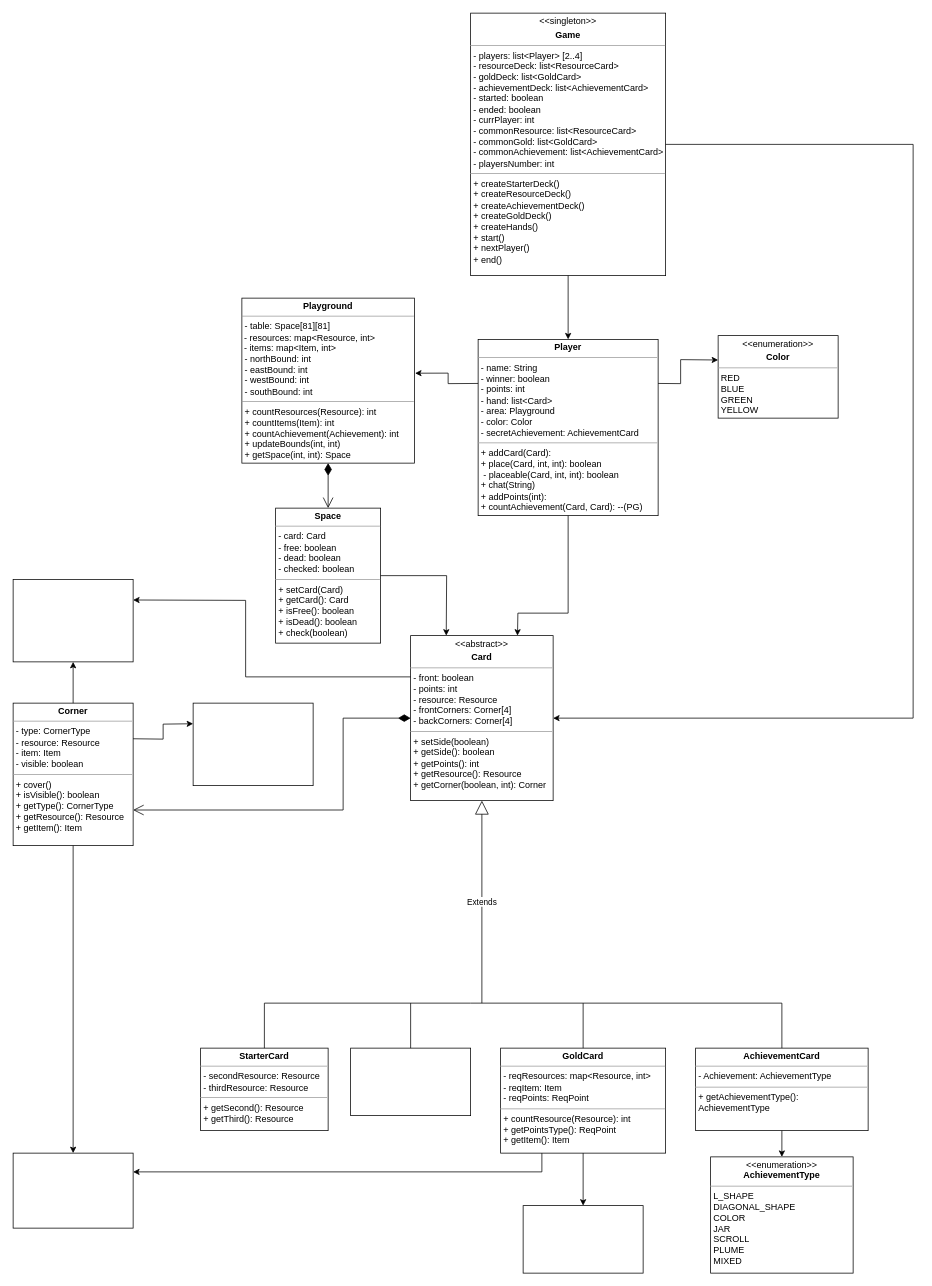
This 932x1286 diagram has some shape labels left out. The shapes that lost their labels are listed below. From the top down, each one's box as (x1, y1, x2, y2) in pixels, then its label:
(12, 579, 133, 662): <<enumeration>> Resource WOLF BUTTERFLY LEAF MUSHROOM
(192, 702, 313, 786): <<enumeration>> CornerType RESOURCE ITEM FREE DEAD
(350, 1047, 471, 1116): ResourceCard
(12, 1152, 133, 1228): <<enumeration>> Item JAR SCROLL PLUME
(522, 1205, 643, 1273): <<enumeration>> ReqPoint CORNER ITEM
